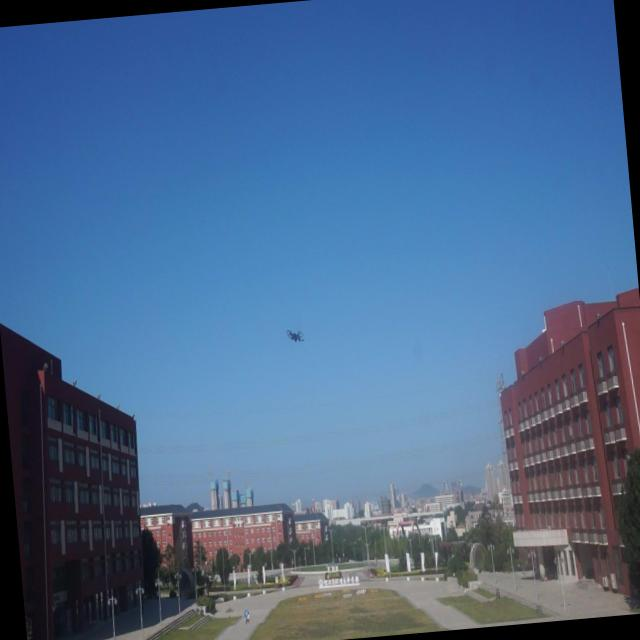drone: (283, 324, 306, 346)
